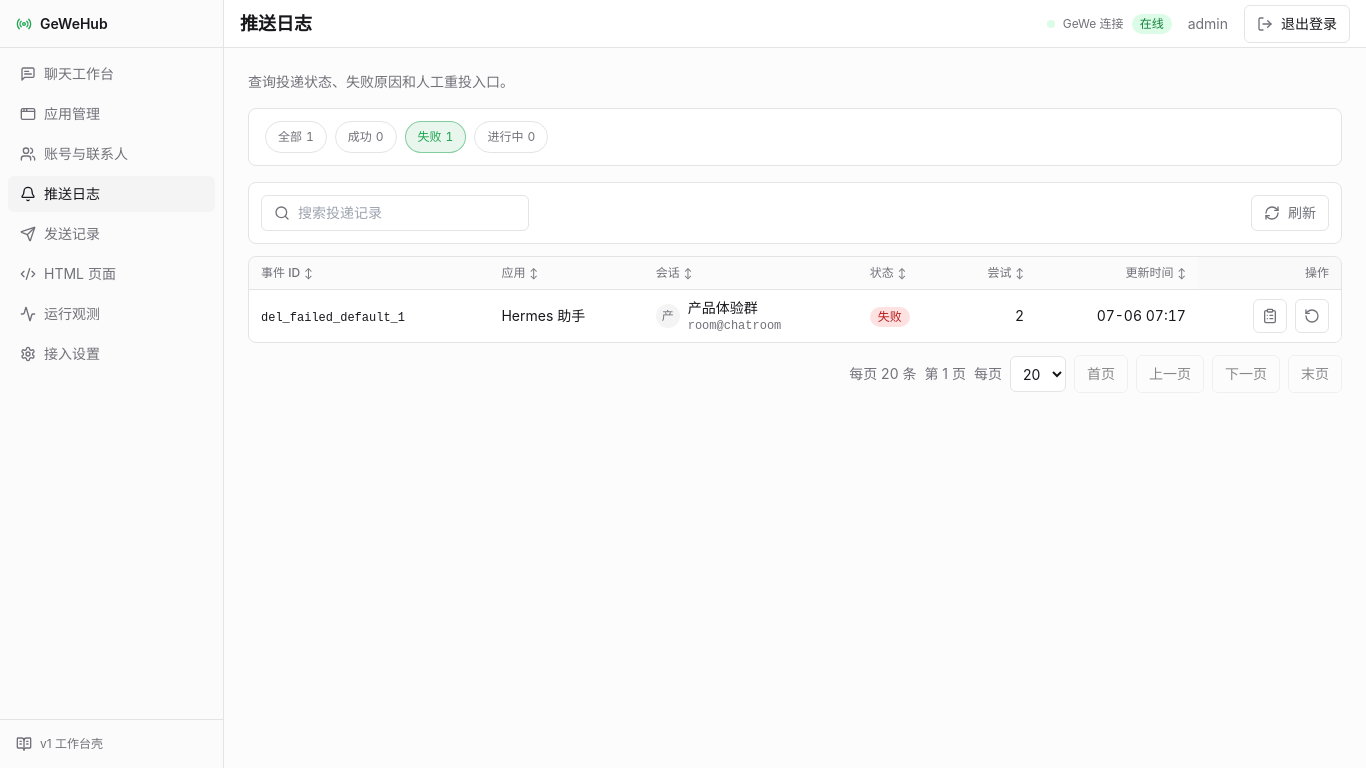
Test: App › 推送日志筛选分页使用路由 search 参数初始化并同步 URL
Expected: the text "del_failed_default_1" is shown, x1=261 y1=311 x2=405 y2=325
Click the button "全部 1": (296, 137) x1=265 y1=121 x2=327 y2=153
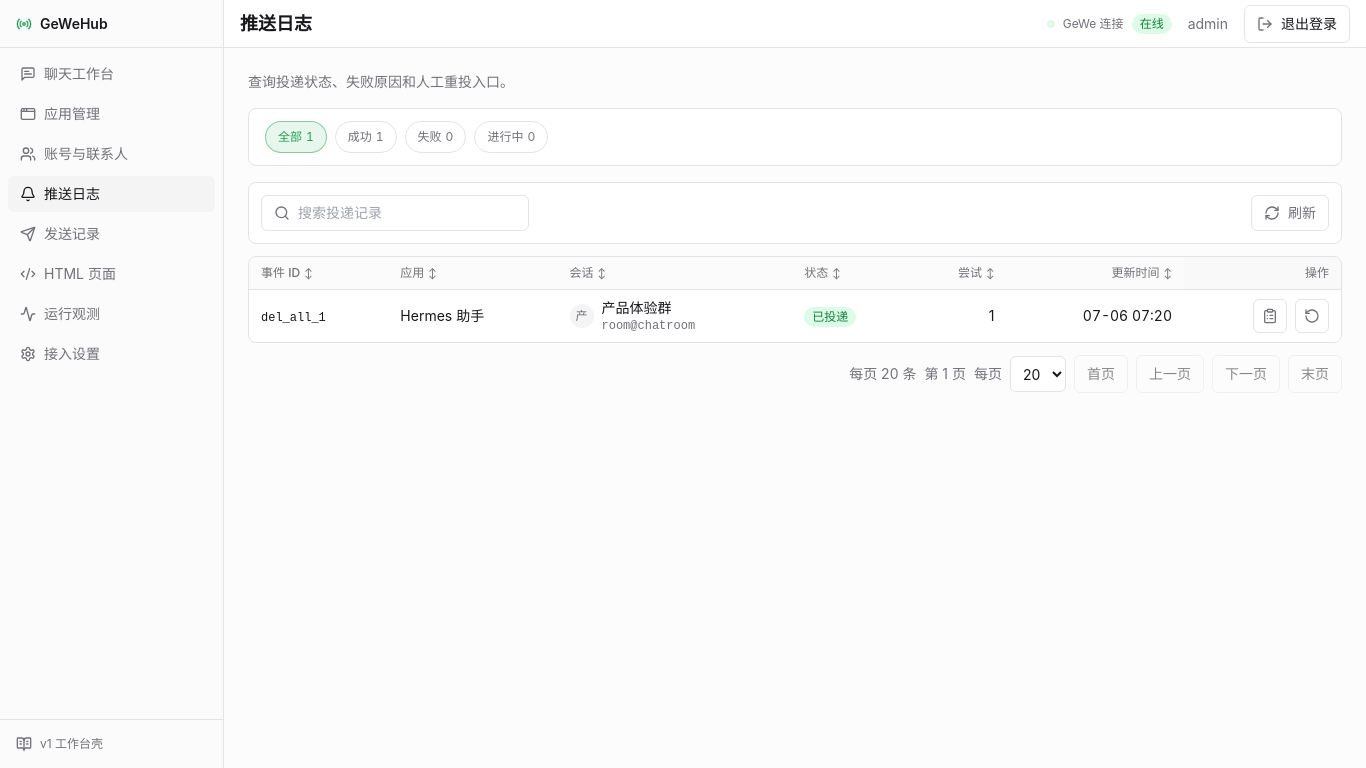
Now the text "del_all_1" is shown, box x1=261 y1=311 x2=326 y2=325
Click the button "进行中 0": (511, 137) x1=474 y1=121 x2=548 y2=153
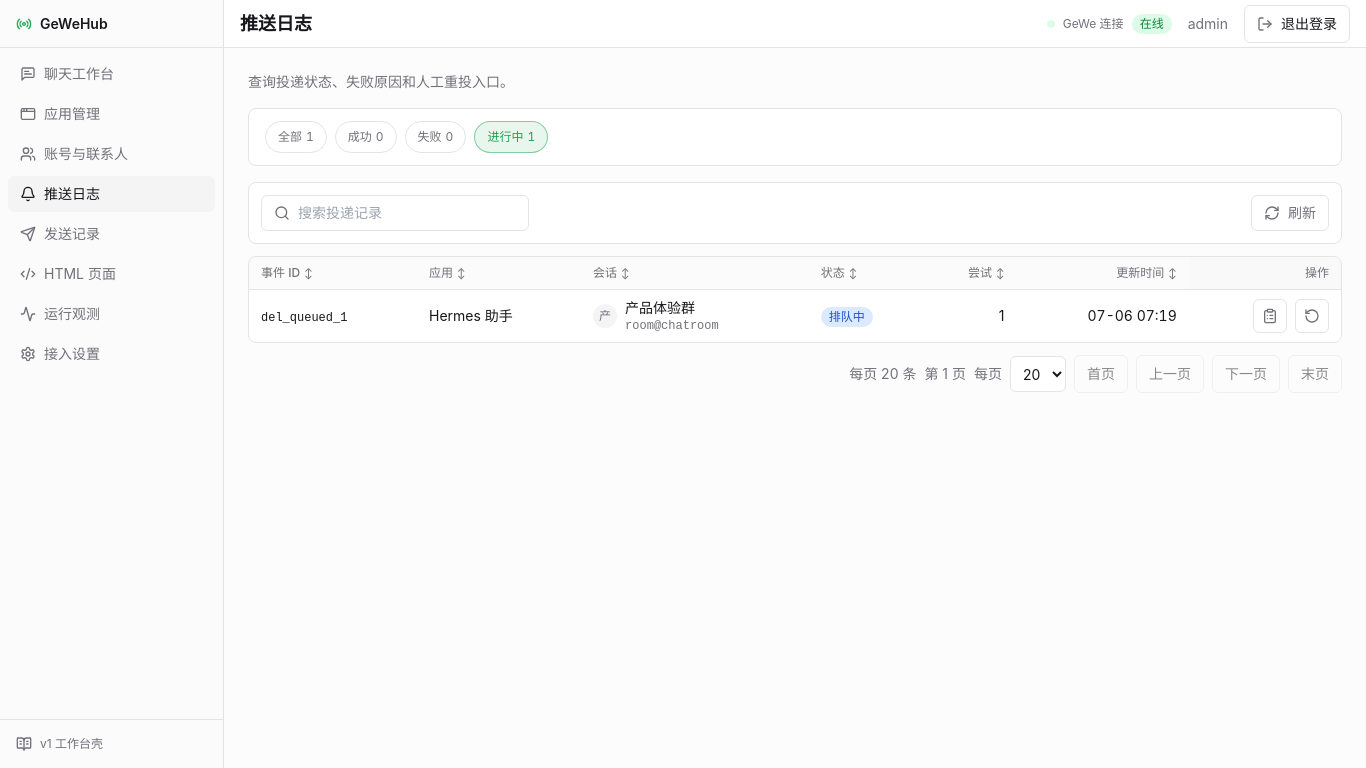
Now the text "del_queued_1" is shown, box x1=261 y1=311 x2=347 y2=325
